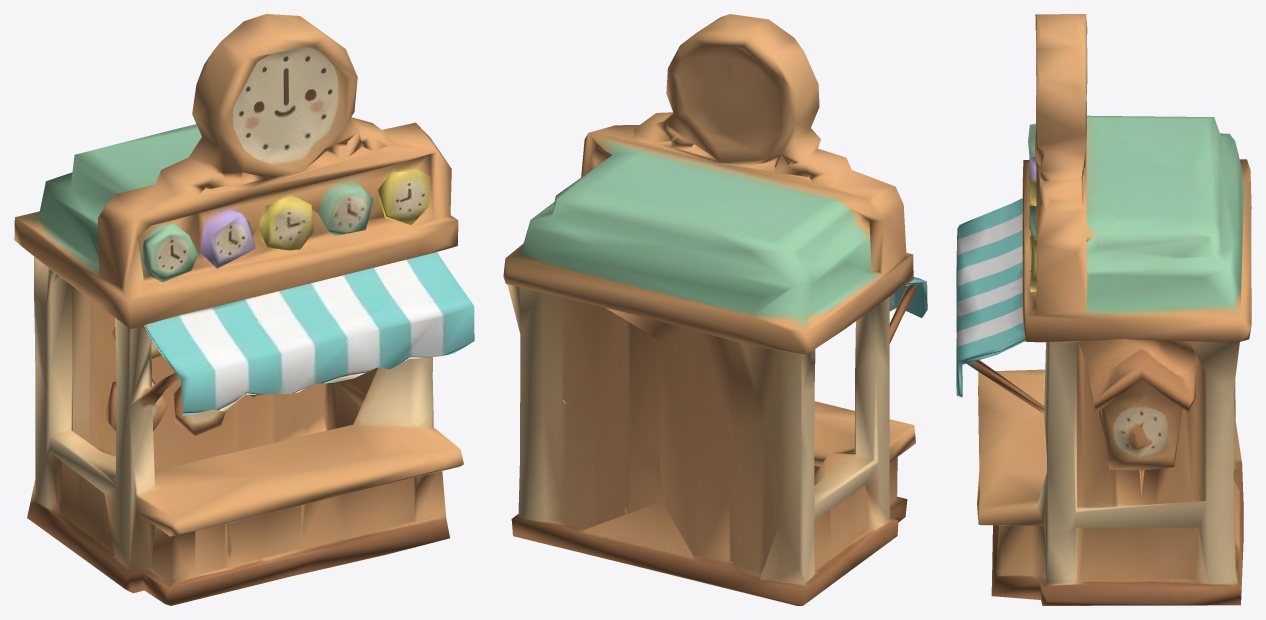
Rendered from stand-horloge.glb.
3 views of the same model, side by side, from view 1: azimuth 30°, elevation 25°; view 2: azimuth 150°, elevation 25°; view 3: azimuth 270°, elevation 25° (orthographic). The views are drawn at different scales.
Visible parts, largest first — view 1: tripo_node_19e4552c-57c7-4ca3-9633-43926039bfb1; view 2: tripo_node_19e4552c-57c7-4ca3-9633-43926039bfb1; view 3: tripo_node_19e4552c-57c7-4ca3-9633-43926039bfb1.
Part boxes in pixels (bbox=[...]): tripo_node_19e4552c-57c7-4ca3-9633-43926039bfb1: bbox=[14, 14, 474, 605]; tripo_node_19e4552c-57c7-4ca3-9633-43926039bfb1: bbox=[503, 14, 927, 605]; tripo_node_19e4552c-57c7-4ca3-9633-43926039bfb1: bbox=[956, 14, 1251, 605].
Bounding box in the file's own units: 0.7072 × 1 × 0.522.
1 material, 1 textured.
